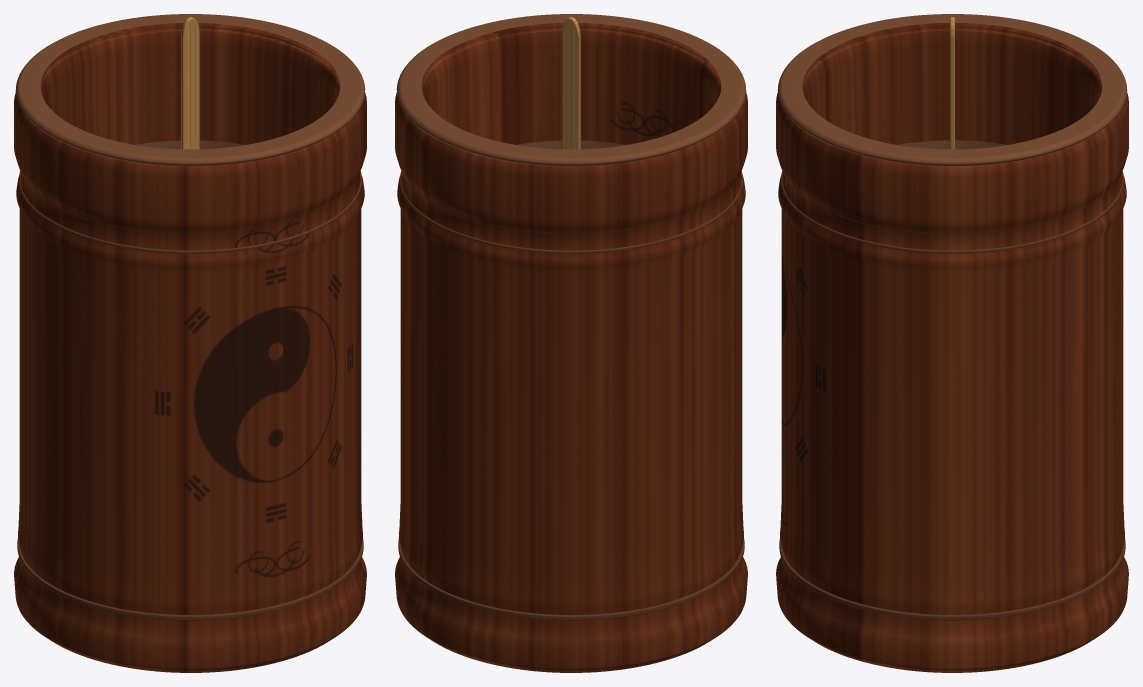
Rendered from fortune-stick-props.glb.
3 views of the same model, side by side, from view 1: azimuth 30°, elevation 25°; view 2: azimuth 150°, elevation 25°; view 3: azimuth 270°, elevation 25° (orthographic).
Parts seen in each view (by area): view 1: FORTUNE_CUP, RIM_END_GRAIN, STICK_BODY, BOTTOM_TURNED_GROOVE, TOP_TURNED_GROOVE_2, INNER_RIM_HIGHLIGHT, CUP_INNER; view 2: FORTUNE_CUP, RIM_END_GRAIN, STICK_BODY, BOTTOM_TURNED_GROOVE, TOP_TURNED_GROOVE_2, INNER_RIM_HIGHLIGHT, CUP_INNER; view 3: FORTUNE_CUP, RIM_END_GRAIN, BOTTOM_TURNED_GROOVE, INNER_RIM_HIGHLIGHT, TOP_TURNED_GROOVE_2, CUP_INNER, STICK_BODY.
Boxes of the visible parts, x1,y1,x2,y2 form: FORTUNE_CUP: (14, 23, 366, 672); RIM_END_GRAIN: (15, 14, 365, 166); STICK_BODY: (181, 17, 199, 149); BOTTOM_TURNED_GROOVE: (17, 538, 363, 620); TOP_TURNED_GROOVE_2: (19, 171, 361, 253); INNER_RIM_HIGHLIGHT: (40, 25, 340, 89); CUP_INNER: (136, 140, 244, 149); FORTUNE_CUP: (395, 23, 747, 672); RIM_END_GRAIN: (396, 14, 746, 166); STICK_BODY: (562, 17, 580, 149); BOTTOM_TURNED_GROOVE: (398, 538, 744, 620); TOP_TURNED_GROOVE_2: (400, 171, 742, 253); INNER_RIM_HIGHLIGHT: (421, 25, 721, 89); CUP_INNER: (517, 140, 625, 149); FORTUNE_CUP: (776, 23, 1128, 672); RIM_END_GRAIN: (777, 14, 1127, 166); BOTTOM_TURNED_GROOVE: (779, 539, 1125, 620); INNER_RIM_HIGHLIGHT: (802, 25, 1102, 89); TOP_TURNED_GROOVE_2: (781, 171, 1123, 253); CUP_INNER: (898, 140, 1006, 149); STICK_BODY: (950, 17, 954, 149).
Size of the model in its own units: 0.8395 by 1.56 by 0.8395.
Materials: 5 (2 with a texture image).
